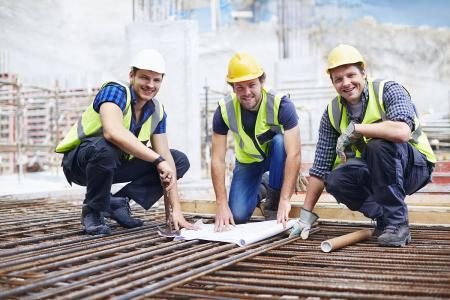helmet: (322, 39, 373, 104), (220, 50, 268, 110), (126, 48, 170, 103)
